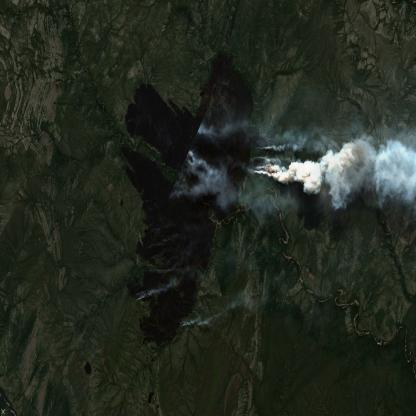fire: (242, 124, 278, 186)
